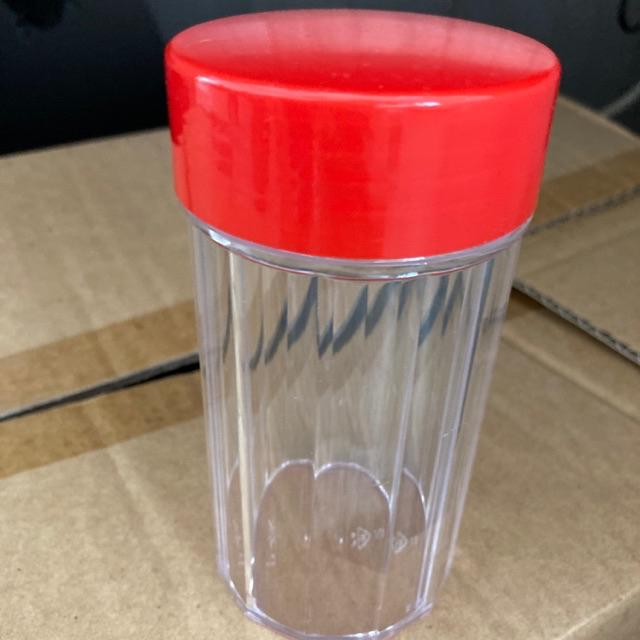medicinejar: (157, 13, 565, 635)
